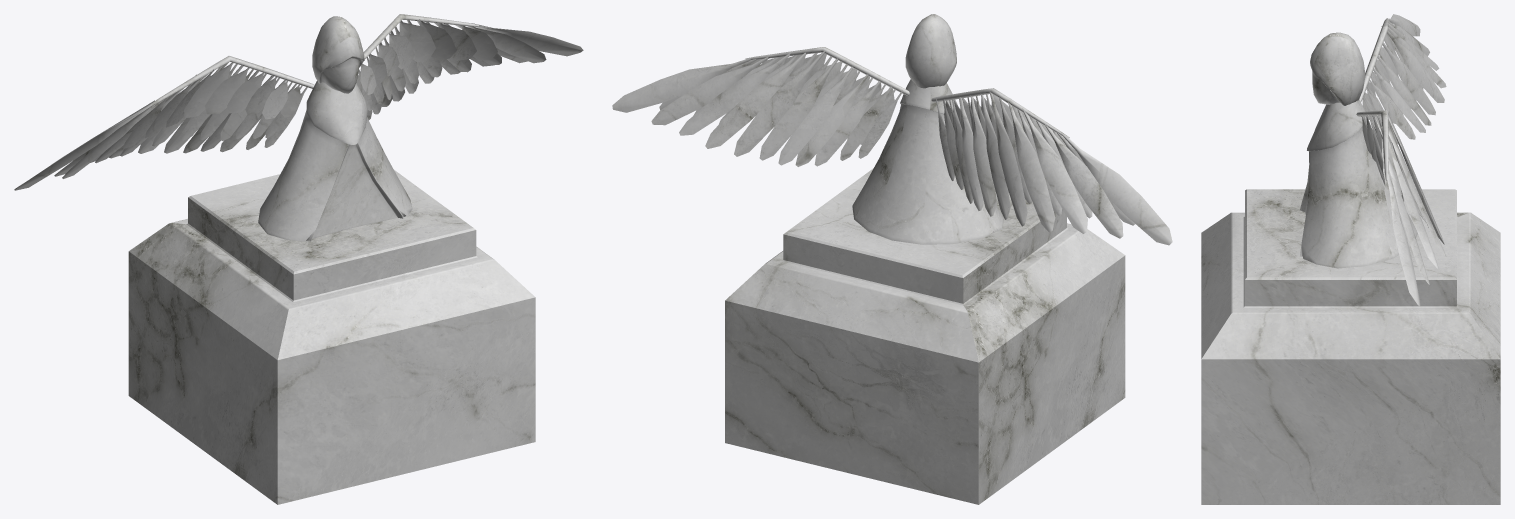
The model's file is statue.fbx.
3 views of the same model, side by side, from view 1: azimuth 30°, elevation 25°; view 2: azimuth 150°, elevation 25°; view 3: azimuth 270°, elevation 25° (orthographic). The views are drawn at different scales.
Visible parts, largest first — view 1: pPlane121; view 2: pPlane121; view 3: pPlane121.
Part boxes in pixels (left/top/right/bottom): pPlane121: left=14, top=14, right=583, bottom=504; pPlane121: left=612, top=14, right=1172, bottom=504; pPlane121: left=1201, top=14, right=1500, bottom=504.
Size of the model in its own units: 38.5 by 26.26 by 17.44.
Materials: 1 (1 with a texture image).
